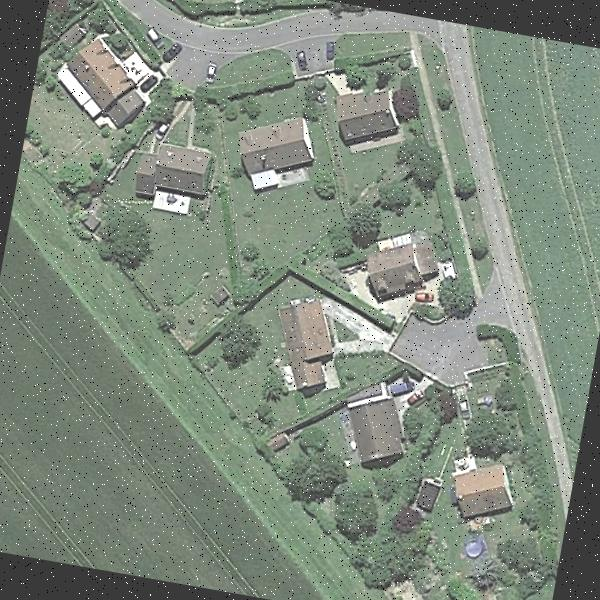Buildings: (264, 298, 344, 393), (66, 42, 142, 115), (324, 79, 408, 143), (364, 232, 447, 296), (133, 136, 208, 206), (349, 392, 410, 469), (238, 124, 316, 176), (450, 462, 518, 520)
